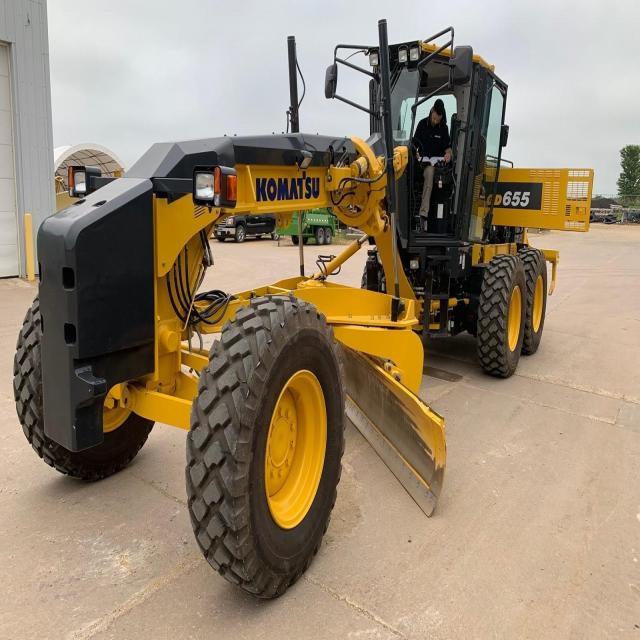Grader: (26, 23, 602, 604)
